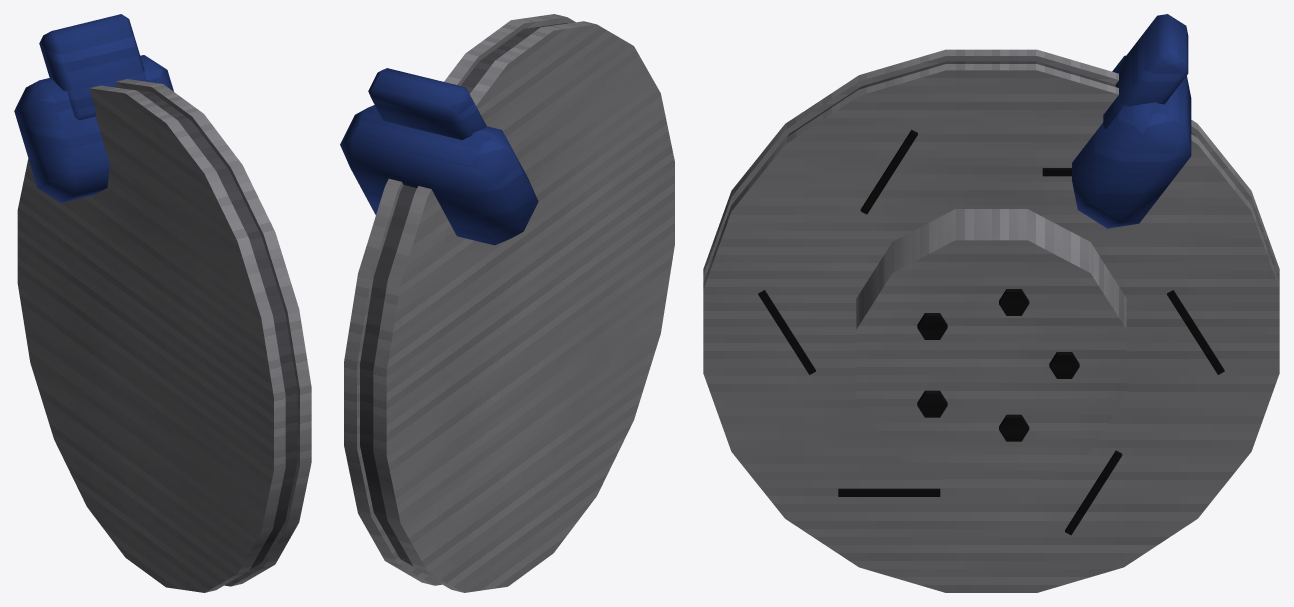
The model's file is discos_n2.glb.
3 renders of one model, left to right at view 1: azimuth 30°, elevation 25°; view 2: azimuth 150°, elevation 25°; view 3: azimuth 270°, elevation 25°, orthographic. The views are drawn at different scales.
Visible parts, largest first — view 1: discos_n2; view 2: discos_n2; view 3: discos_n2.
Part boxes in pixels (x1,y1,x2,y2): discos_n2: [14, 14, 311, 592]; discos_n2: [340, 14, 674, 592]; discos_n2: [703, 14, 1279, 592].
Bounding box in the file's own units: 0.105 × 0.3198 × 0.3042.
Materials: 1 (1 with a texture image).
